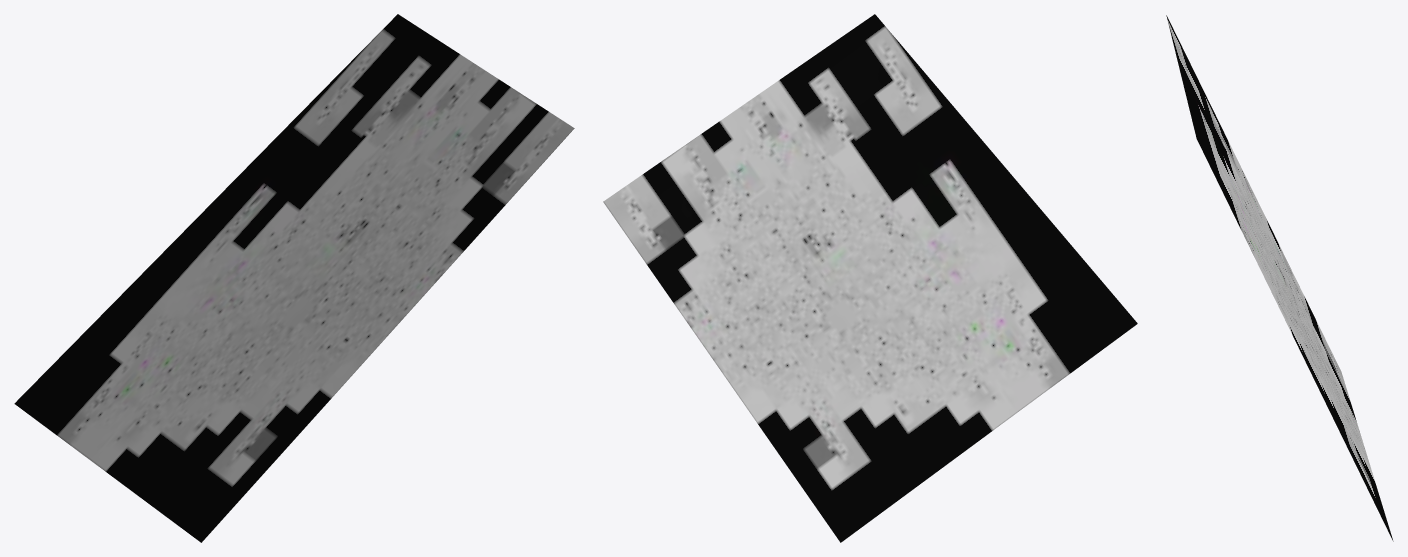
The model's file is o_mdl_env_propSpiderWebD-transformed.glb.
The picture shows the model from 3 angles, left to right: view 1: azimuth 30°, elevation 25°; view 2: azimuth 150°, elevation 25°; view 3: azimuth 270°, elevation 25°; orthographic projection. The views are drawn at different scales.
Parts seen in each view (by area): view 1: default; view 2: default; view 3: default.
Boxes of the visible parts, x1,y1,x2,y2 form: default: (14,14,574,542); default: (603,14,1137,542); default: (1166,15,1393,541).
Bounding box in the file's own units: 1.84 × 1.66 × 0.6069.
1 material, 1 textured.
